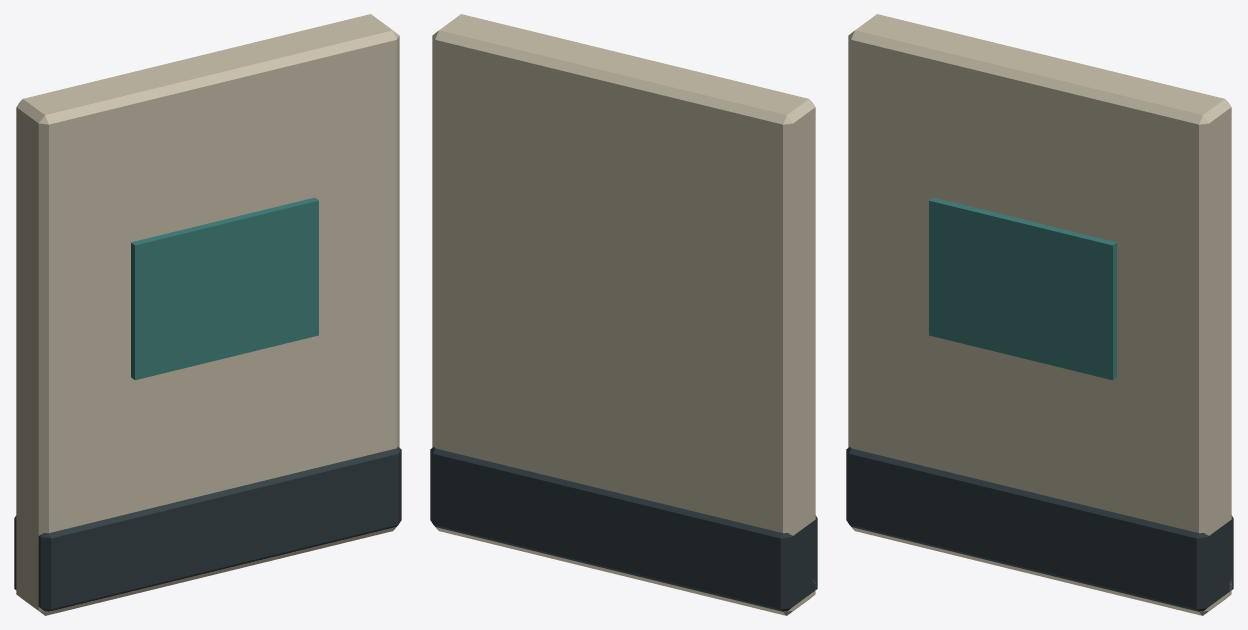
File: factory-wall-bay-lod0.b7806b5610eb.glb
The picture shows the model from 3 angles, left to right: view 1: azimuth 30°, elevation 25°; view 2: azimuth 150°, elevation 25°; view 3: azimuth 330°, elevation 25°; orthographic projection.
Parts seen in each view (by area): view 1: body; view 2: body; view 3: body.
Part boxes in pixels (left/top/right/bottom): body: left=14, top=14, right=401, bottom=615; body: left=430, top=14, right=817, bottom=615; body: left=846, top=14, right=1233, bottom=615.
Bounding box in the file's own units: 0.98 × 1.3 × 0.17.
